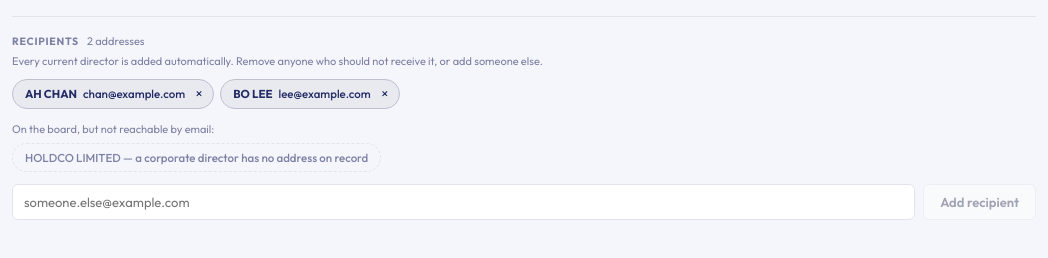
RecipientPicker › refuses a value that is not an address
The image size is (1048, 258).
Type "nope" into the field named "Add a recipient" at coordinates (464, 202), box x1=12 y1=184 x2=915 y2=220
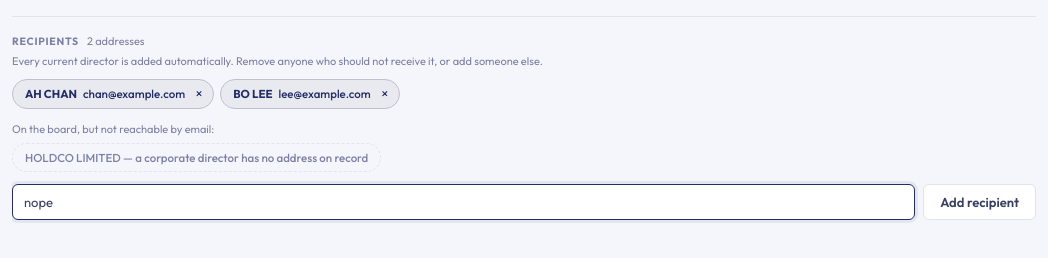
Click the button "Add recipient" at coordinates (980, 202), box x1=923 y1=184 x2=1036 y2=220
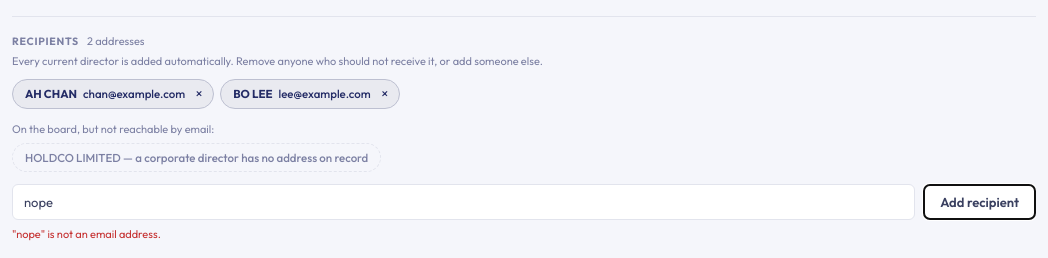
Expected: the text "\"nope\" is not an email address." is shown, x1=12 y1=227 x2=161 y2=241
